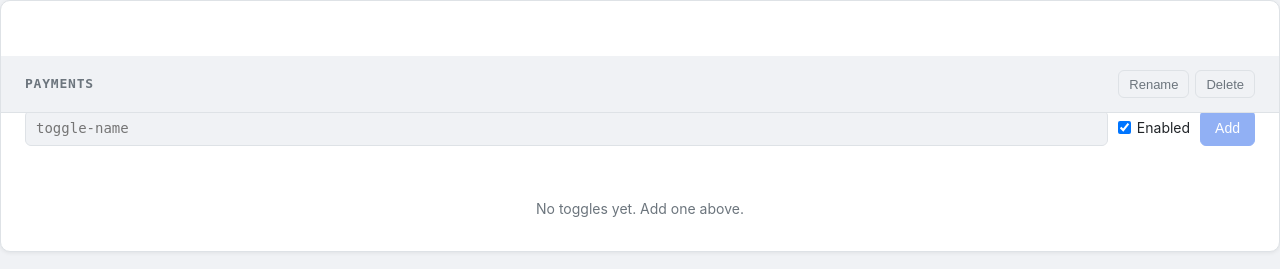
GroupSection › clicking Delete shows a confirmation prompt
Click the button "Delete". click: point(1225, 84)
box: [1195,70,1255,98]
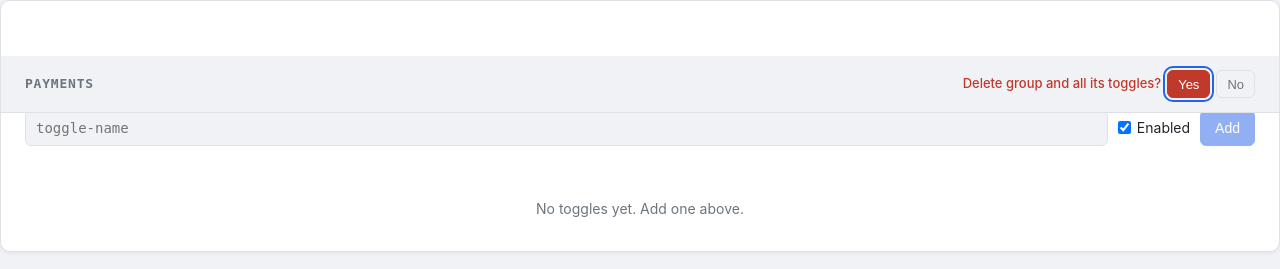
Result: the text "Delete group and all its toggles?" is shown at [963,74,1161,94]
Result: the button "Yes" is shown at [1167,70,1210,98]
Result: the button "No" is shown at [1216,70,1255,98]
